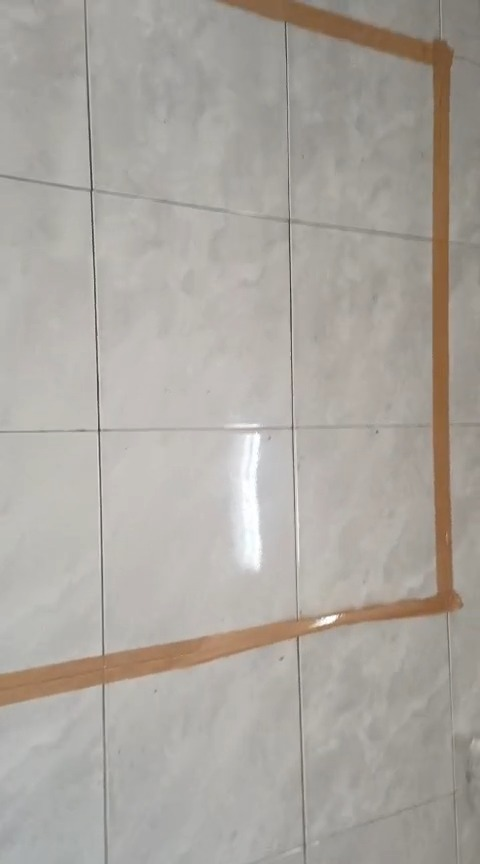floor marking: (0, 0, 462, 706)
